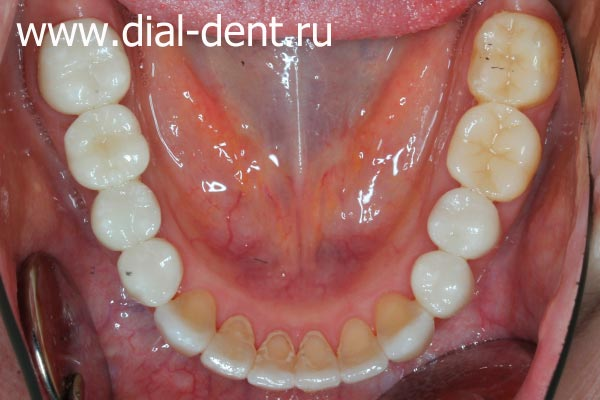LL1BC_healthy: (415, 253, 472, 308)
LL1M_healthy: (454, 107, 539, 194)
LL2BC_healthy: (426, 189, 500, 258)
LL2M_healthy: (473, 13, 560, 107)
LLCI_decay: (298, 330, 340, 390)
LLC_healthy: (372, 296, 433, 357)
LLLI_healthy: (337, 318, 386, 381)
LR1BC_healthy: (123, 245, 181, 304)
LR1M_healthy: (63, 109, 151, 184)
LR2BC_healthy: (93, 182, 160, 245)
LR2M_healthy: (37, 20, 132, 106)
LRCI_decay: (255, 333, 297, 388)
LRC_healthy: (167, 289, 212, 354)
LRLI_decay: (208, 313, 254, 379)
